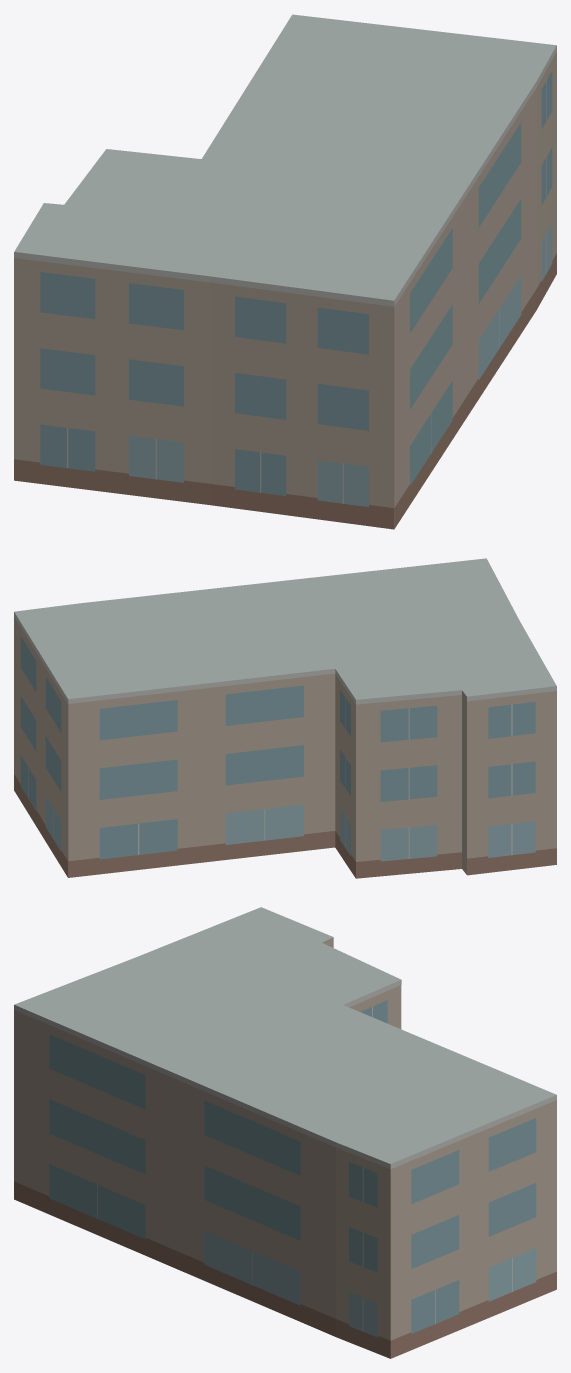
The model's file is survey-upis-33003323.glb.
The picture shows the model from 3 angles, top to bottom: view 1: azimuth 30°, elevation 25°; view 2: azimuth 150°, elevation 25°; view 3: azimuth 270°, elevation 25°; orthographic projection. The views are drawn at different scales.
Parts seen in each view (by area): view 1: survey-upis-33003323.tmp; view 2: survey-upis-33003323.tmp; view 3: survey-upis-33003323.tmp.
Boxes of the visible parts, bbox=[...] form: survey-upis-33003323.tmp: bbox=[14, 14, 556, 529]; survey-upis-33003323.tmp: bbox=[14, 558, 556, 878]; survey-upis-33003323.tmp: bbox=[14, 907, 556, 1358].
Size of the model in its own units: 25.91 by 9.15 by 23.12.
